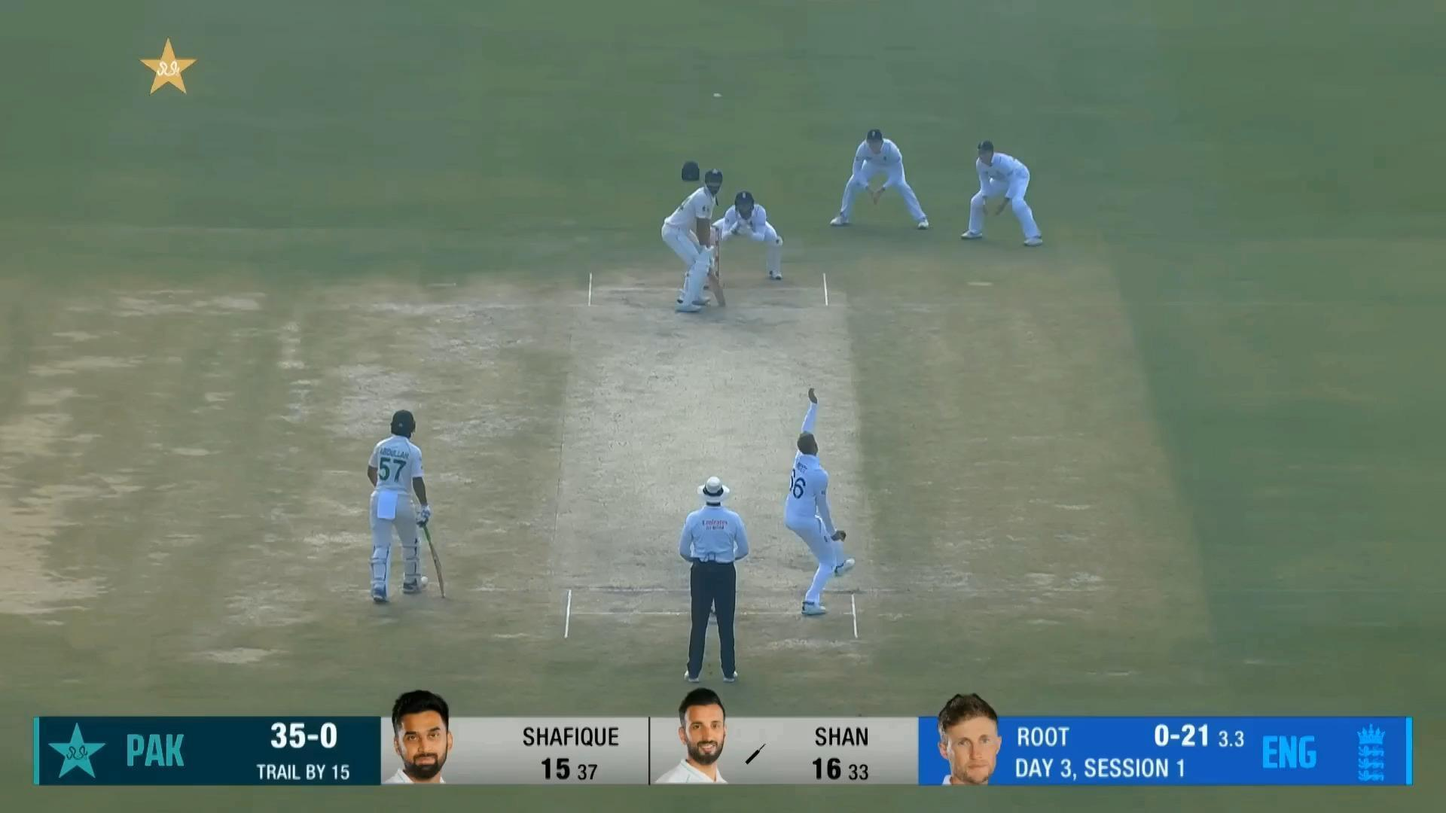BM 1: (661, 169, 727, 312)
BO: (784, 387, 855, 615)
